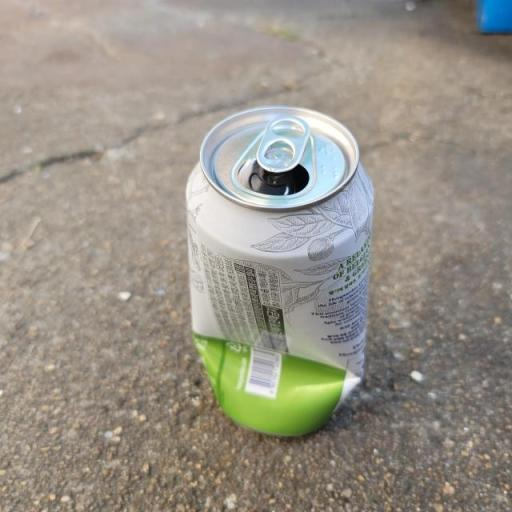metal: (160, 72, 412, 479)
